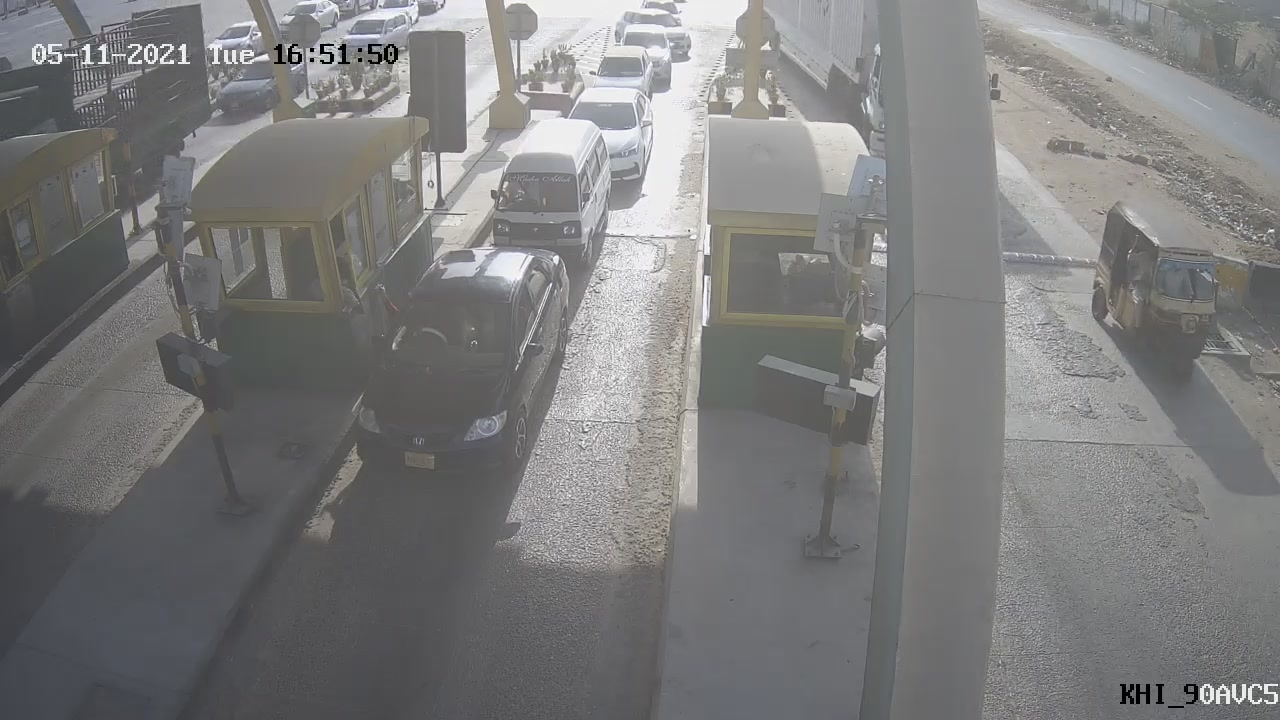F1: (329, 234, 591, 500), (472, 105, 626, 282)
